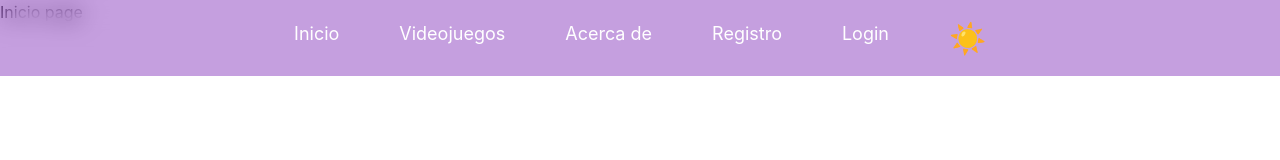
Test: Layout navigation › redirige correctamente a Acerca de
Click the link "Acerca de": click(609, 34) left=565, top=23, right=652, bottom=44
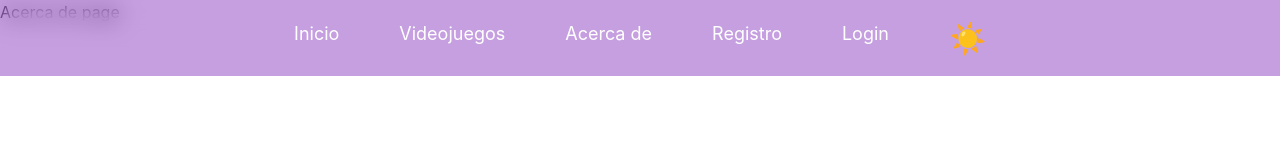
Expected: the text "Acerca de page" is shown, left=0, top=2, right=120, bottom=22
